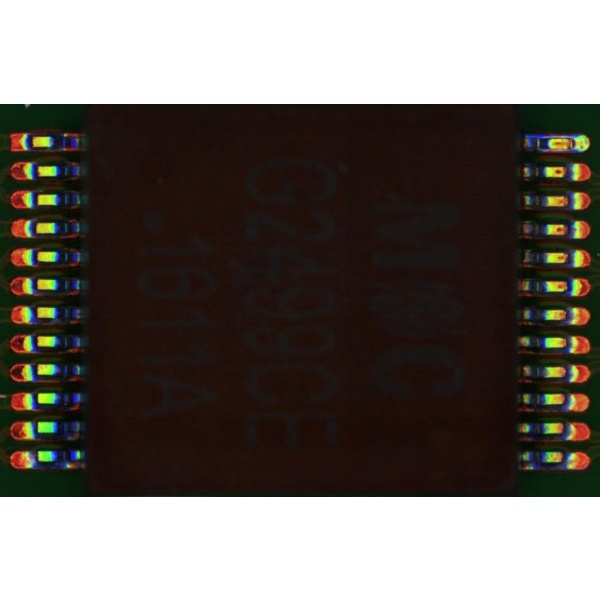Bad_qiaojiao: (540, 134, 574, 138)
